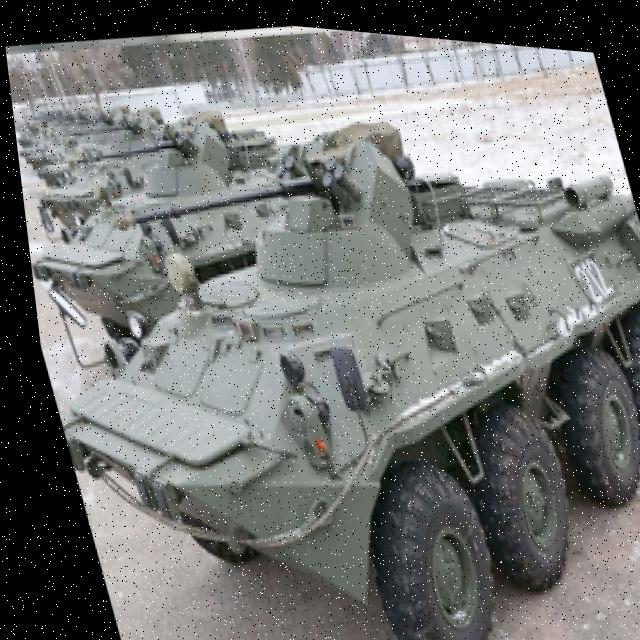MIL_APC: (4, 45, 640, 640)
